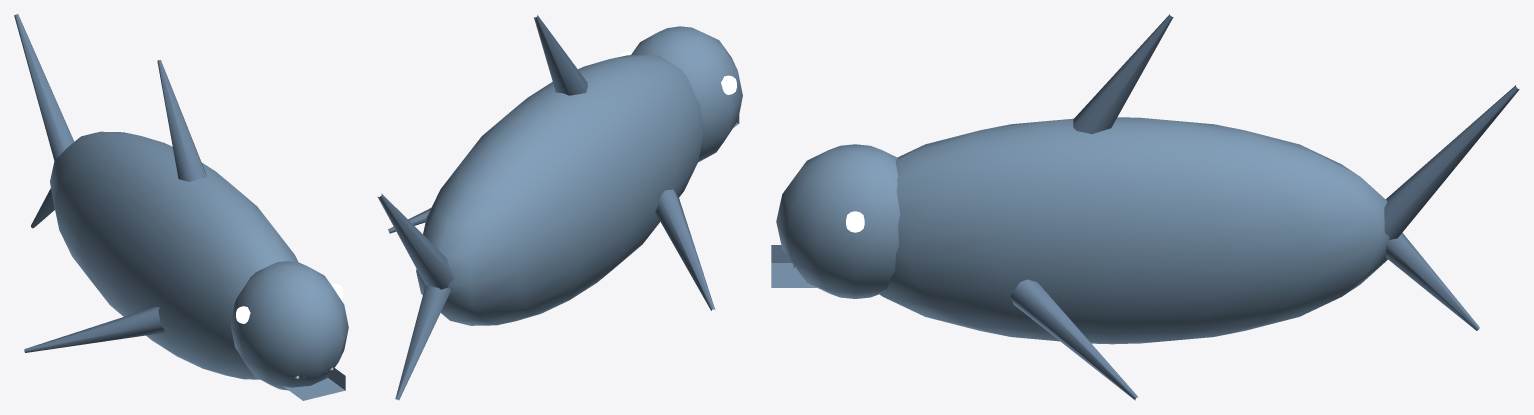
File: aquatic.glb
The picture shows the model from 3 angles, left to right: view 1: azimuth 30°, elevation 25°; view 2: azimuth 150°, elevation 25°; view 3: azimuth 270°, elevation 25°; orthographic projection. The views are drawn at different scales.
Size of the model in its own units: 0.8466 by 0.7224 by 1.51.
